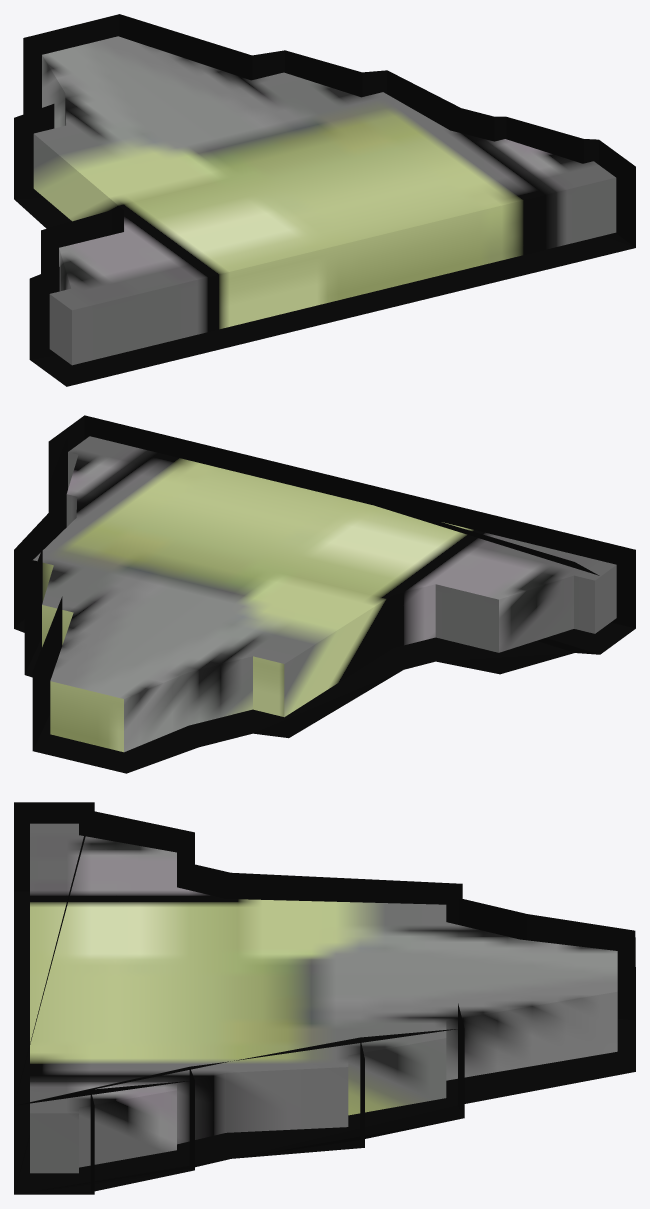
File: Building_TrapIED_ToxGas_Things_Building_Security_IEDTox.glb
3 views of the same model, one above another, from view 1: azimuth 30°, elevation 25°; view 2: azimuth 150°, elevation 25°; view 3: azimuth 270°, elevation 25° (orthographic). The views are drawn at different scales.
Visible parts, largest first — view 1: Body, Outline; view 2: Body, Outline; view 3: Body, Outline.
Boxes of the visible parts, x1=… form: Body: x1=33, y1=36, x2=616, y2=365; Outline: x1=14, y1=14, x2=635, y2=386; Body: x1=32, y1=436, x2=616, y2=752; Outline: x1=14, y1=415, x2=635, y2=773; Body: x1=30, y1=823, x2=617, y2=1173; Outline: x1=14, y1=802, x2=635, y2=1194.
Size of the model in its own units: 0.8173 by 0.129 by 0.7084.
2 materials, 1 textured.
